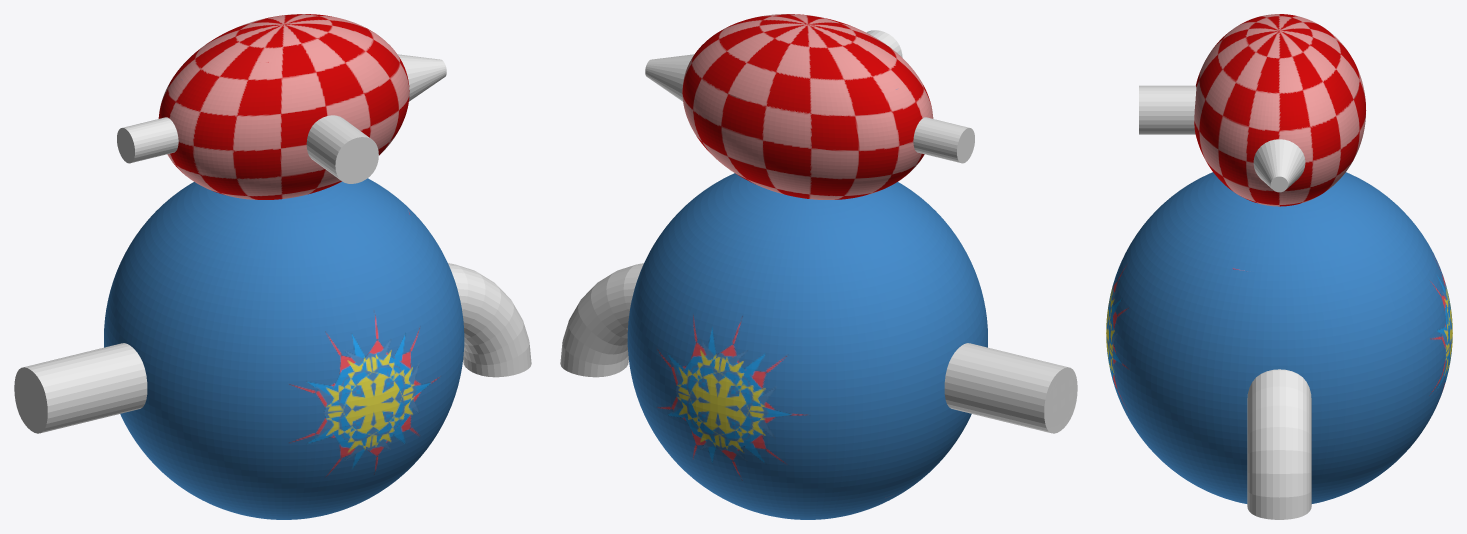
Rendered from BOD0_BMC7_BCC8_BPT0_FRC16_HEA1_HMC11_HCC4_HPT4_ELT1_ERT2_ELL1_ERL1_AP3_AAL0_AAR2_BEK1.fbx.
The picture shows the model from 3 angles, left to right: view 1: azimuth 30°, elevation 25°; view 2: azimuth 150°, elevation 25°; view 3: azimuth 270°, elevation 25°; orthographic projection. The views are drawn at different scales.
Parts seen in each view (by area): view 1: Body, Arm.001, Arm, Beak, Ear, Ear.001; view 2: Body, Arm.001, Arm, Ear, Ear.001; view 3: Body, Arm, Beak, Ear.001.
Boxes of the visible parts, <box> form: Body: <box>104,14,464,519</box>; Arm.001: <box>14,343,147,433</box>; Arm: <box>448,263,531,377</box>; Beak: <box>306,115,378,183</box>; Ear: <box>117,117,178,163</box>; Ear.001: <box>397,54,446,101</box>; Body: <box>627,14,987,519</box>; Arm.001: <box>944,343,1077,433</box>; Arm: <box>560,263,643,377</box>; Ear: <box>913,117,974,163</box>; Ear.001: <box>645,54,694,101</box>; Body: <box>1106,14,1452,503</box>; Arm: <box>1247,369,1311,519</box>; Beak: <box>1139,85,1196,134</box>; Ear.001: <box>1253,139,1305,192</box>.
Bounding box in the file's own units: 78.31 × 72.41 × 49.36.
Materials: 1 (1 with a texture image).
